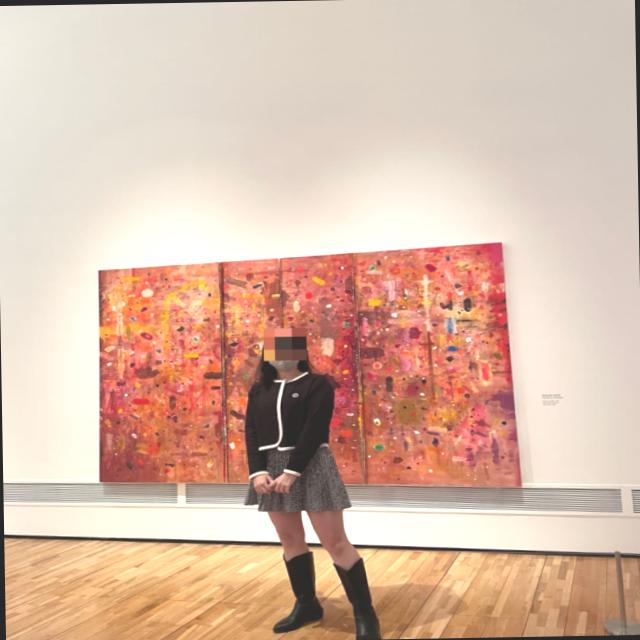cardigan: (240, 373, 338, 478)
skirt: (240, 446, 352, 512)
